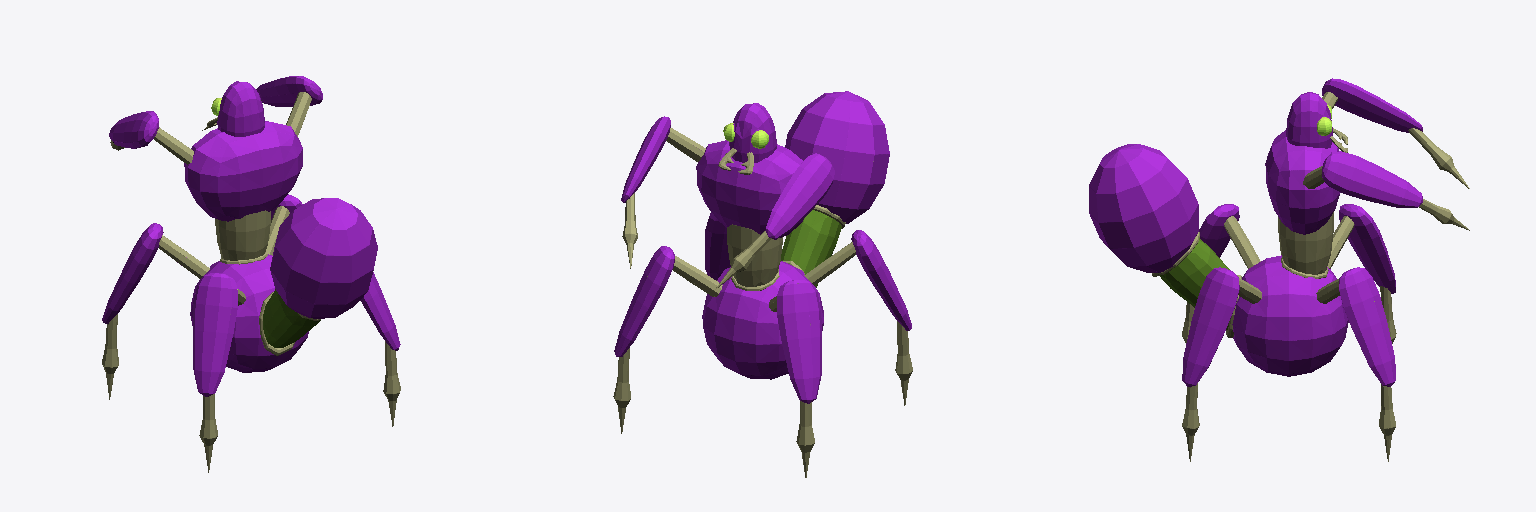
3 renders of one model, left to right at view 1: azimuth 30°, elevation 25°; view 2: azimuth 150°, elevation 25°; view 3: azimuth 270°, elevation 25°, orthographic.
Parts seen in each view (by area): view 1: Cube.003_Cube.005; view 2: Cube.003_Cube.005; view 3: Cube.003_Cube.005.
Boxes of the visible parts, box(x1,y1,x2,y2) form: Cube.003_Cube.005: box(102, 76, 400, 472); Cube.003_Cube.005: box(613, 91, 912, 477); Cube.003_Cube.005: box(1089, 78, 1469, 461).
Size of the model in its own units: 3.69 by 5.73 by 6.08.
Materials: 1 (1 with a texture image).